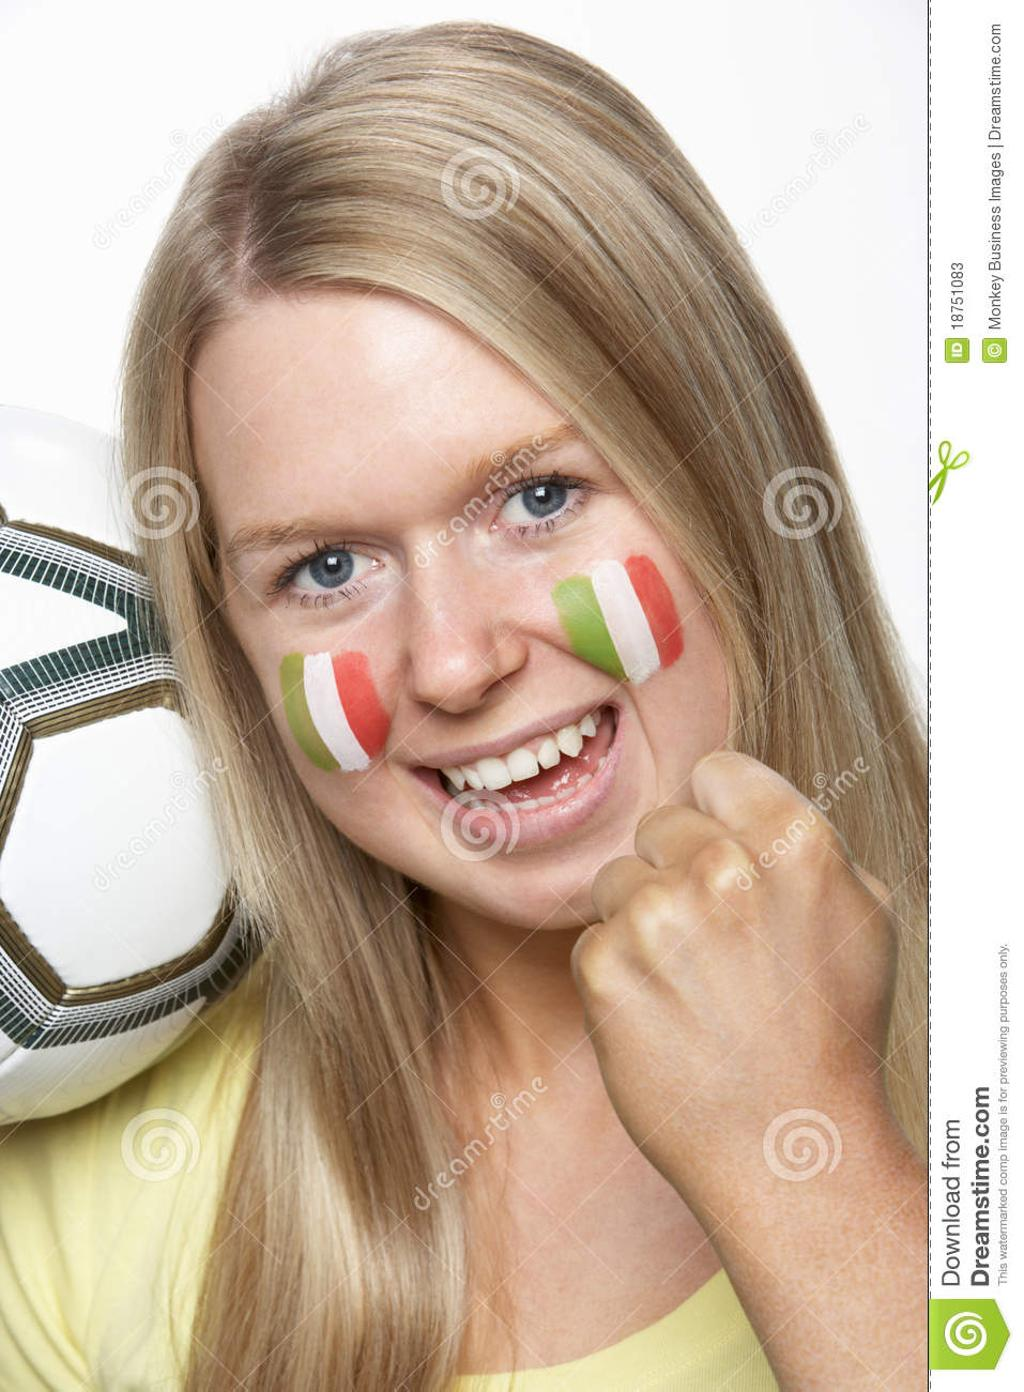face: (179, 359, 720, 927)
